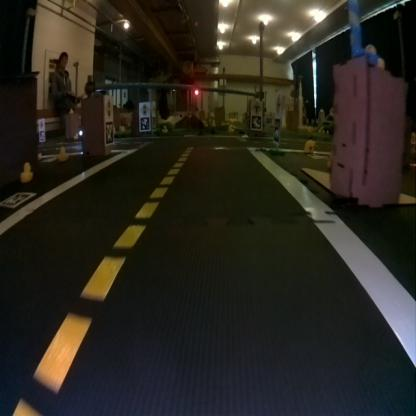Duckie: (20, 162, 32, 181), (304, 138, 315, 152), (58, 146, 68, 160)
Intersection sign: (275, 96, 280, 116)
QR code: (0, 192, 35, 206), (105, 120, 113, 143), (138, 118, 150, 130), (273, 118, 279, 141), (251, 115, 261, 128)
Signal sign: (104, 95, 113, 116), (138, 102, 150, 115)
